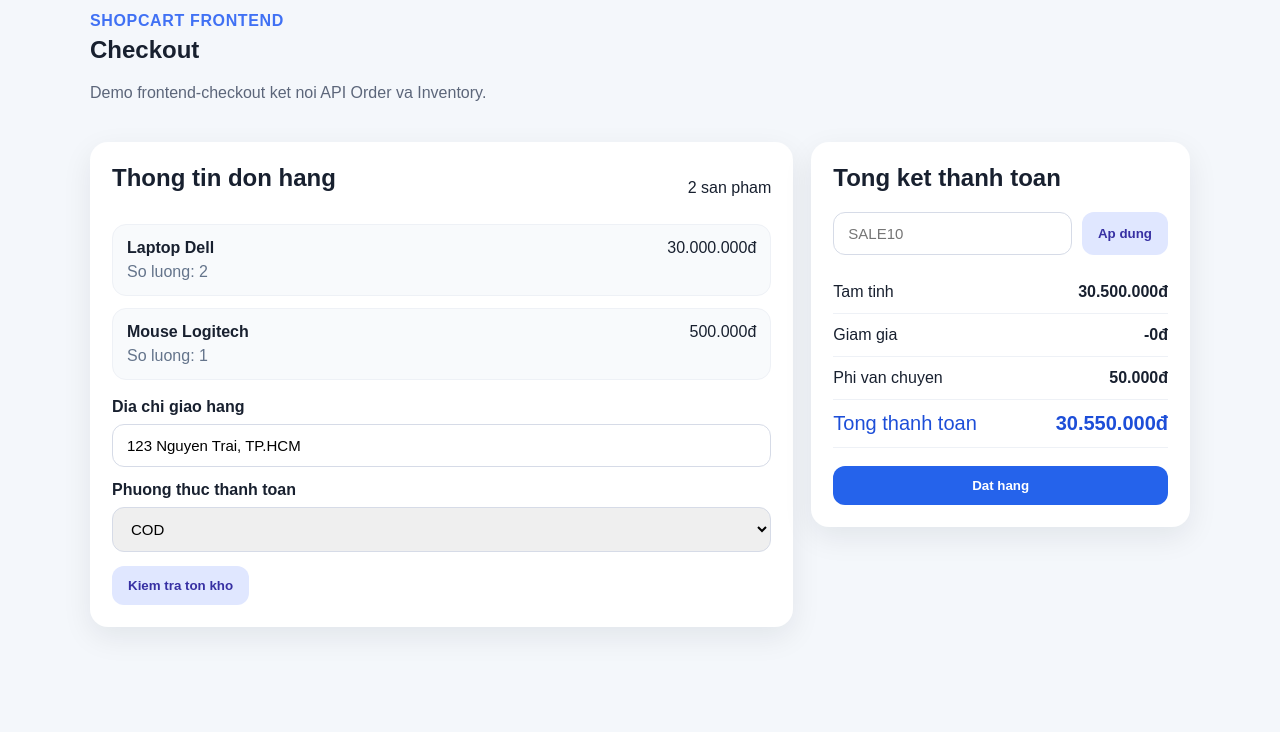
Test: Checkout Component Extra Coverage Tests › TC_CHECKOUT_EXTRA_005: Hien thi thong bao khi kiem tra ton kho thanh cong
Click the button with test id "check-inventory-btn" at (181, 585), box [112, 566, 249, 605]
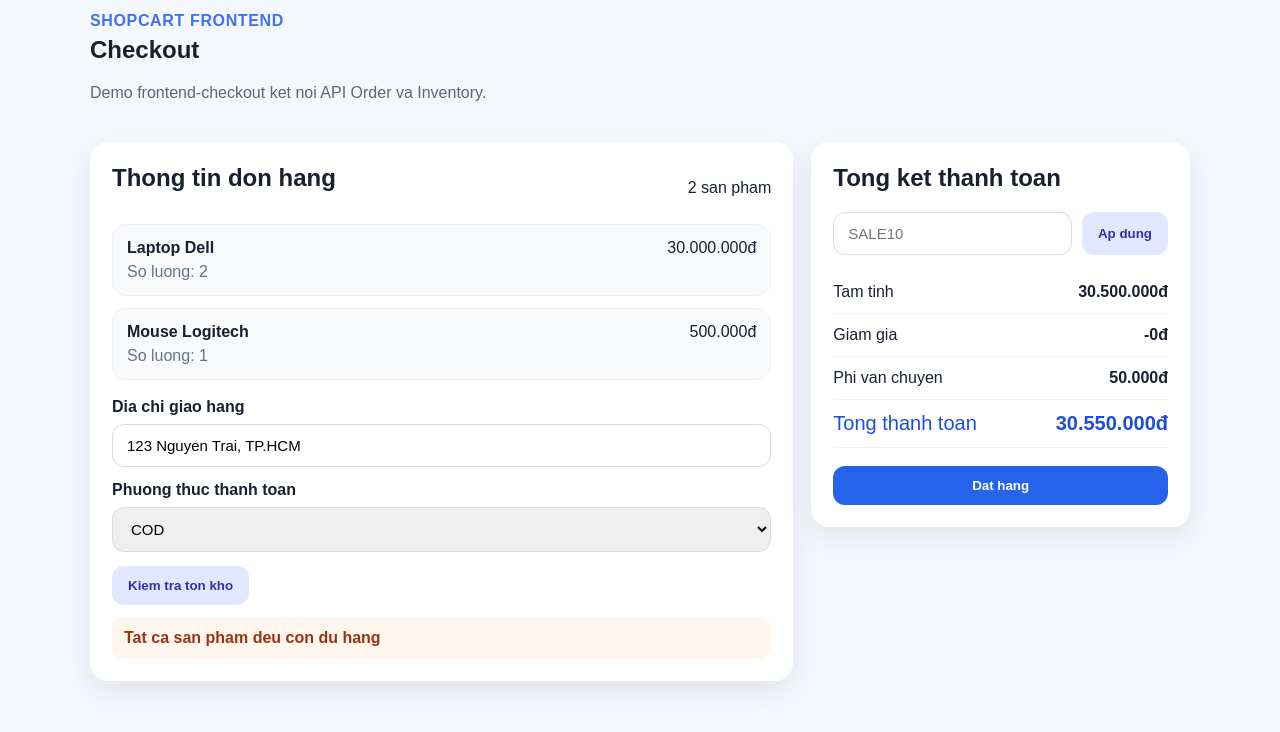
Check: the text with test id "inventory-warning" reads "Tat ca san pham deu con du hang", box [124, 629, 381, 646]
